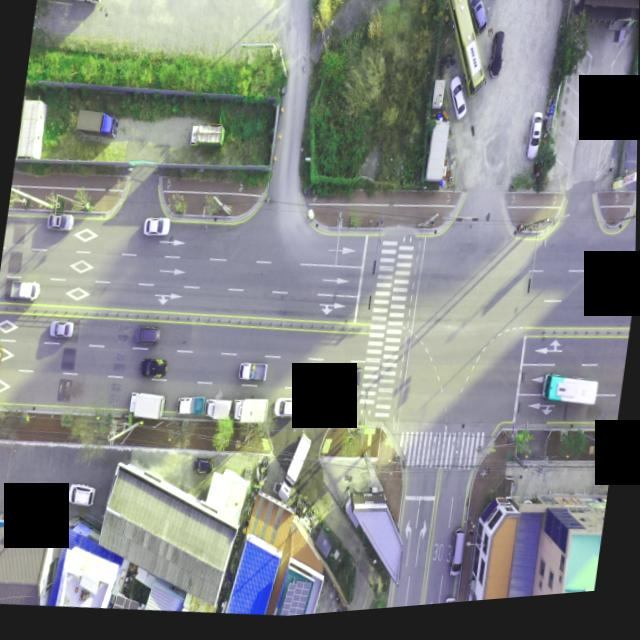car: (461, 0, 491, 45), (485, 35, 508, 89), (448, 531, 469, 584), (447, 80, 470, 126), (68, 482, 98, 511), (528, 121, 545, 170), (143, 356, 171, 381), (276, 399, 304, 424), (191, 457, 218, 482), (144, 215, 171, 239), (335, 369, 363, 392), (49, 209, 76, 232), (139, 324, 163, 347), (51, 318, 75, 340), (445, 601, 460, 611), (0, 343, 4, 365)
large_bus: (437, 0, 498, 111), (543, 377, 605, 419), (36, 0, 108, 11)
medium_truck: (275, 434, 314, 513), (75, 104, 121, 144), (232, 398, 274, 432), (130, 390, 169, 424)
small_truck: (187, 121, 226, 152), (6, 276, 41, 303), (175, 394, 207, 422), (204, 398, 234, 427), (241, 361, 270, 386)
